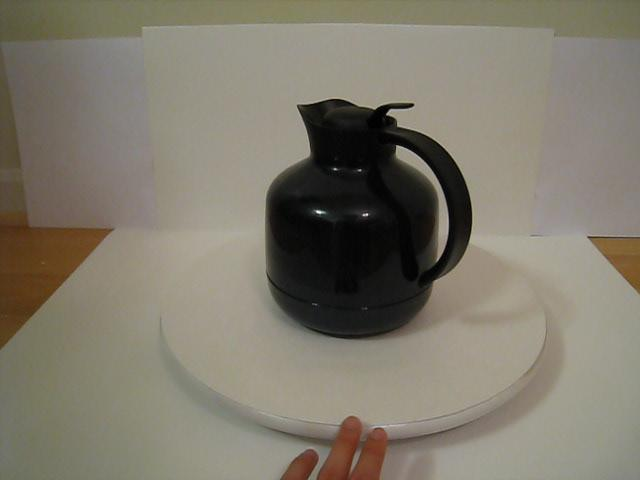pitcher: (243, 95, 475, 346)
